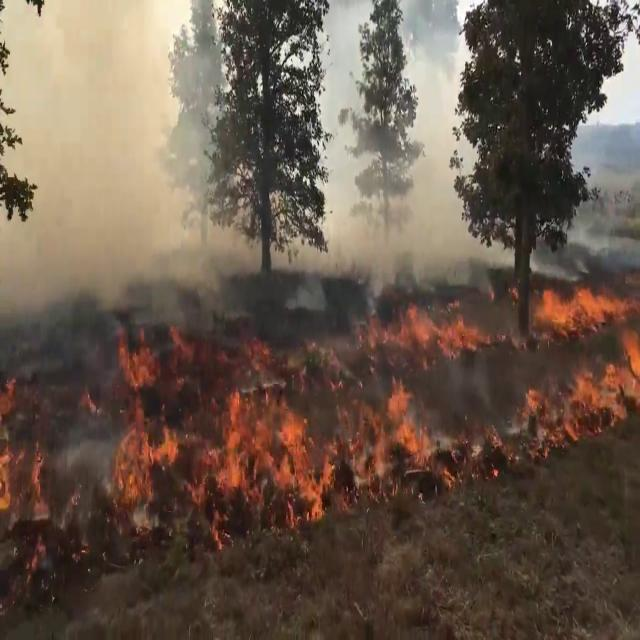Fire: (208, 354, 334, 526), (530, 284, 640, 436), (102, 314, 180, 520), (350, 368, 462, 489), (360, 294, 500, 364), (1, 371, 26, 518)
Smoke: (0, 1, 484, 302), (0, 0, 282, 315)
